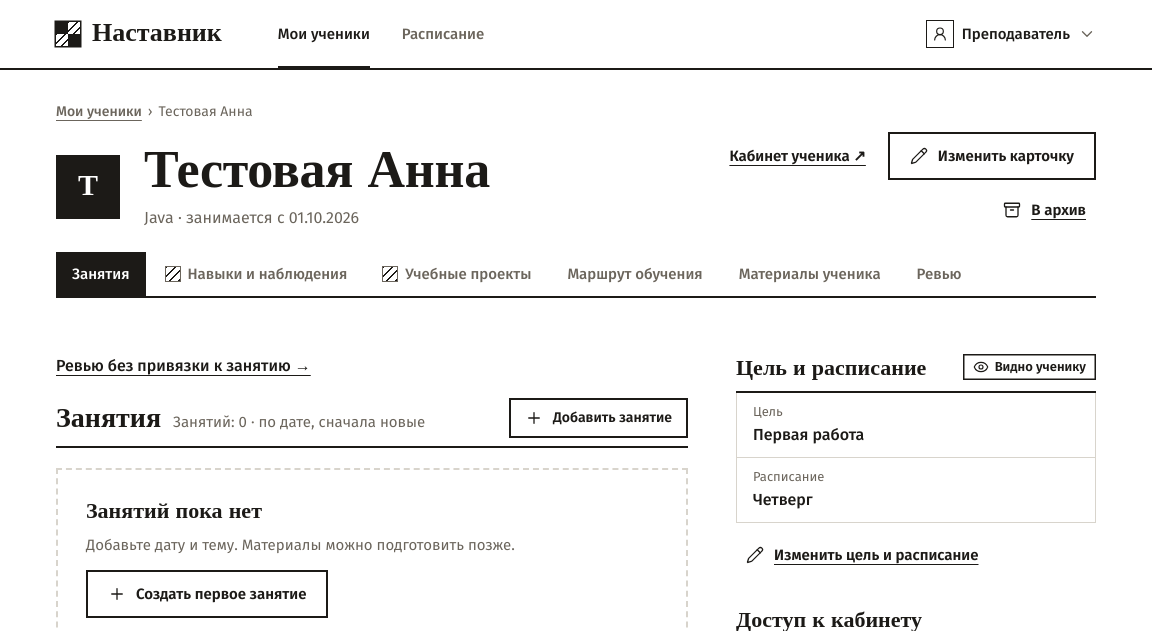
it: Student workspace › retains profile fields and expected revision on failed save
The image size is (1152, 631).
Click the button "Изменить карточку".
click(992, 156)  # box [888,132,1096,180]
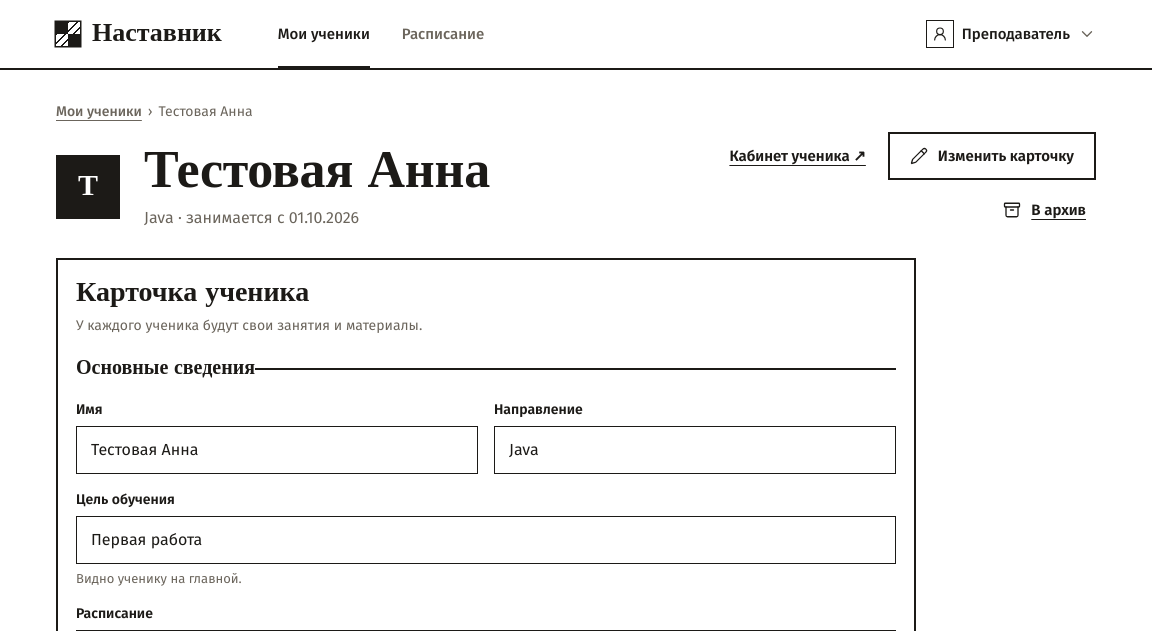
expect the field named "name" is shown: met
Replace the text in the field named "name" with "Новое имя" at (277, 450), box [76,426,478,474]
(page scrolled)
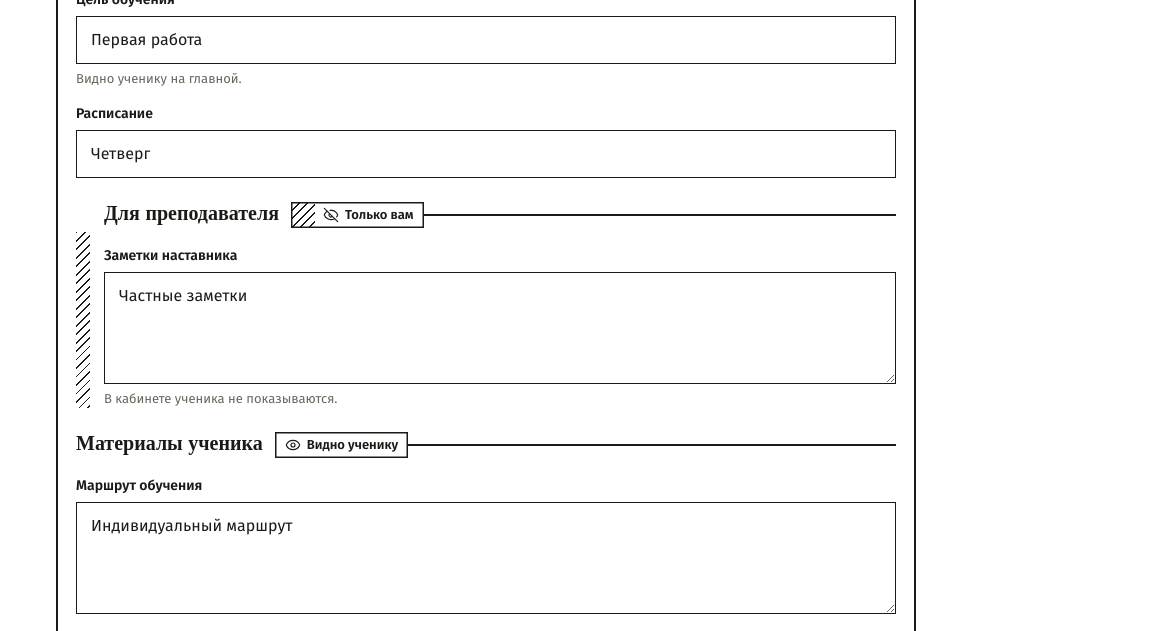
Submit the form
(page scrolled)
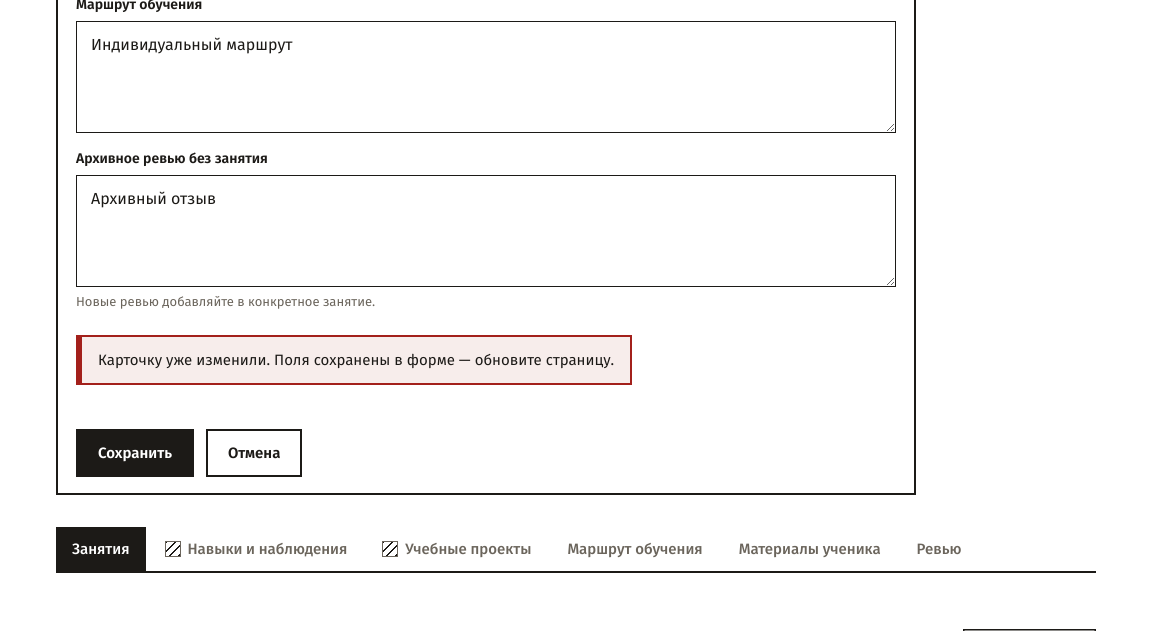
expect the message "Карточку уже изменили. Поля сохранены в форме — обновите страницу." is shown: met, box [76,335,632,385]
